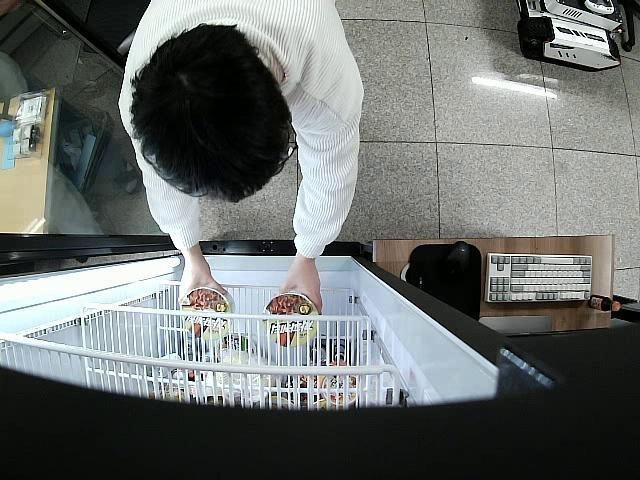03_chapagetti_L: (260, 293, 319, 348), (182, 287, 234, 340)
